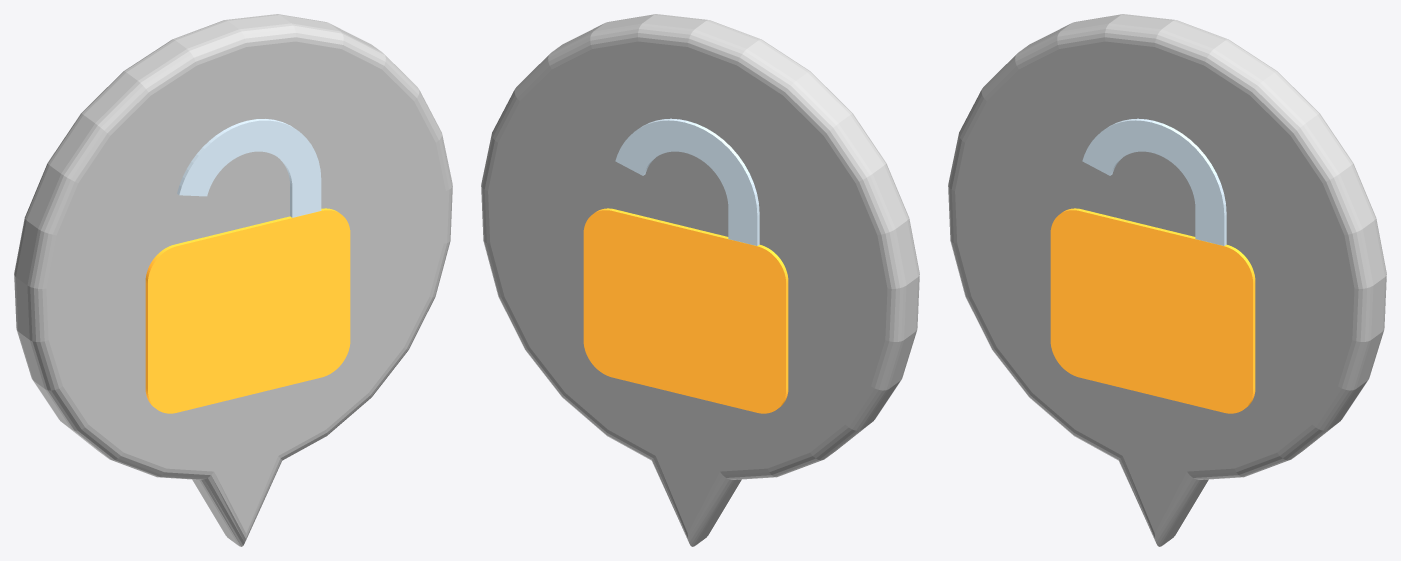
File: unlock.glb
The picture shows the model from 3 angles, left to right: view 1: azimuth 30°, elevation 25°; view 2: azimuth 150°, elevation 25°; view 3: azimuth 330°, elevation 25°; orthographic projection.
Parts seen in each view (by area): view 1: EmotionBubble; view 2: EmotionBubble; view 3: EmotionBubble.
Boxes of the visible parts, x1,y1,x2,y2 form: EmotionBubble: (14, 14, 452, 546); EmotionBubble: (481, 14, 919, 546); EmotionBubble: (948, 14, 1386, 546).
Bounding box in the file's own units: 5.29 × 6.16 × 0.676.
